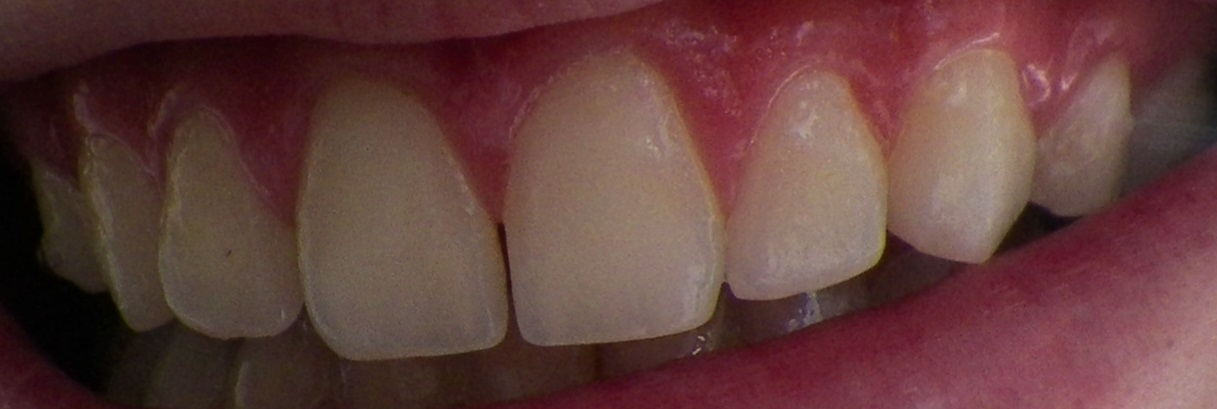boca: (20, 54, 1186, 368)
